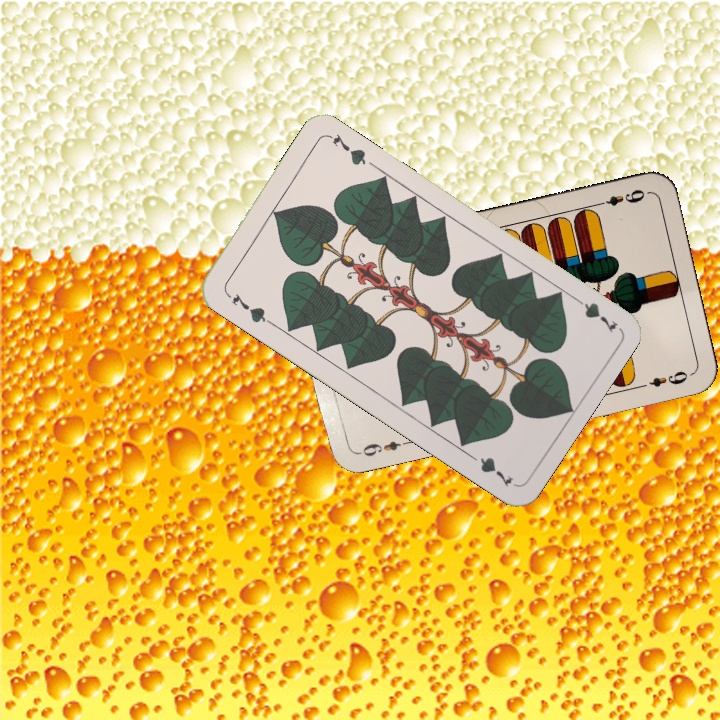E9: (592, 185, 650, 209), (352, 437, 411, 459)
G7: (567, 291, 620, 335), (228, 289, 274, 327)
